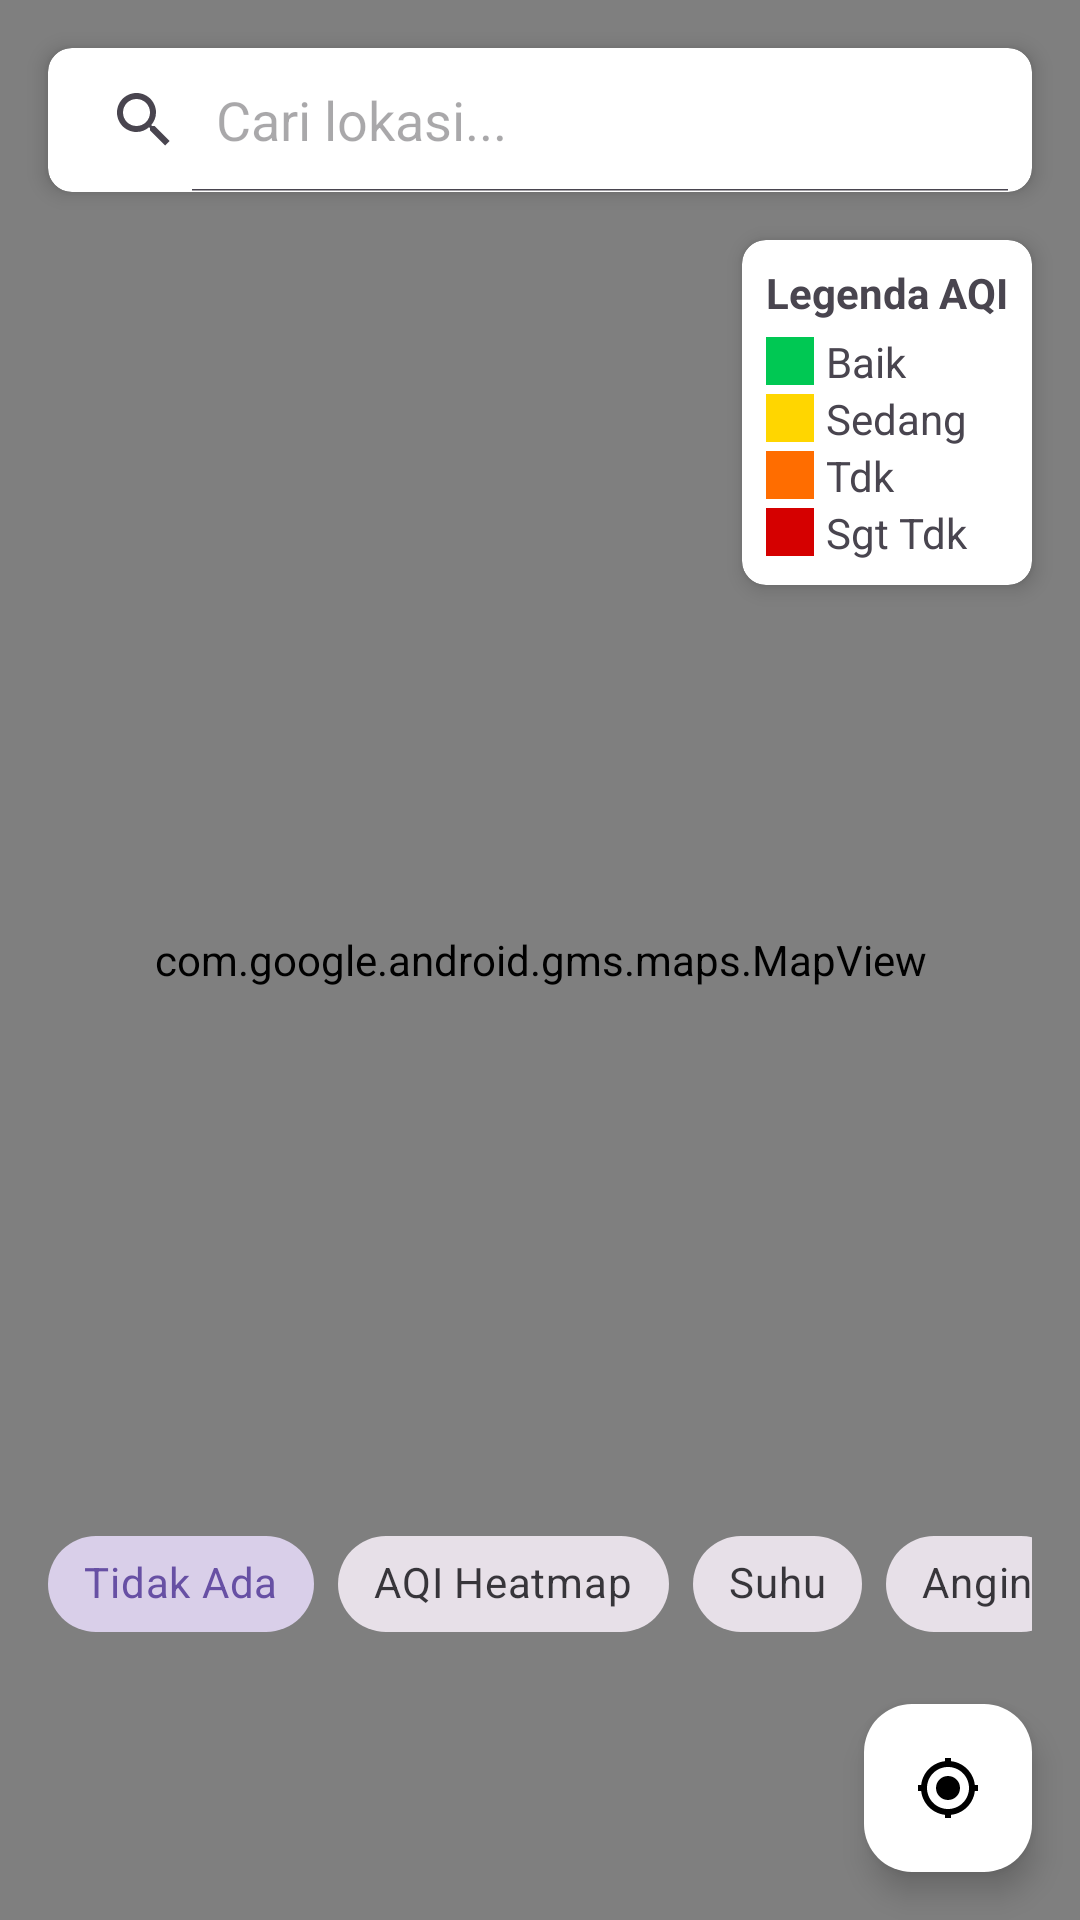

Where to tap for icons on this 1080 x 1920 app screen, as point (x, y):
location: point (948, 1788)
